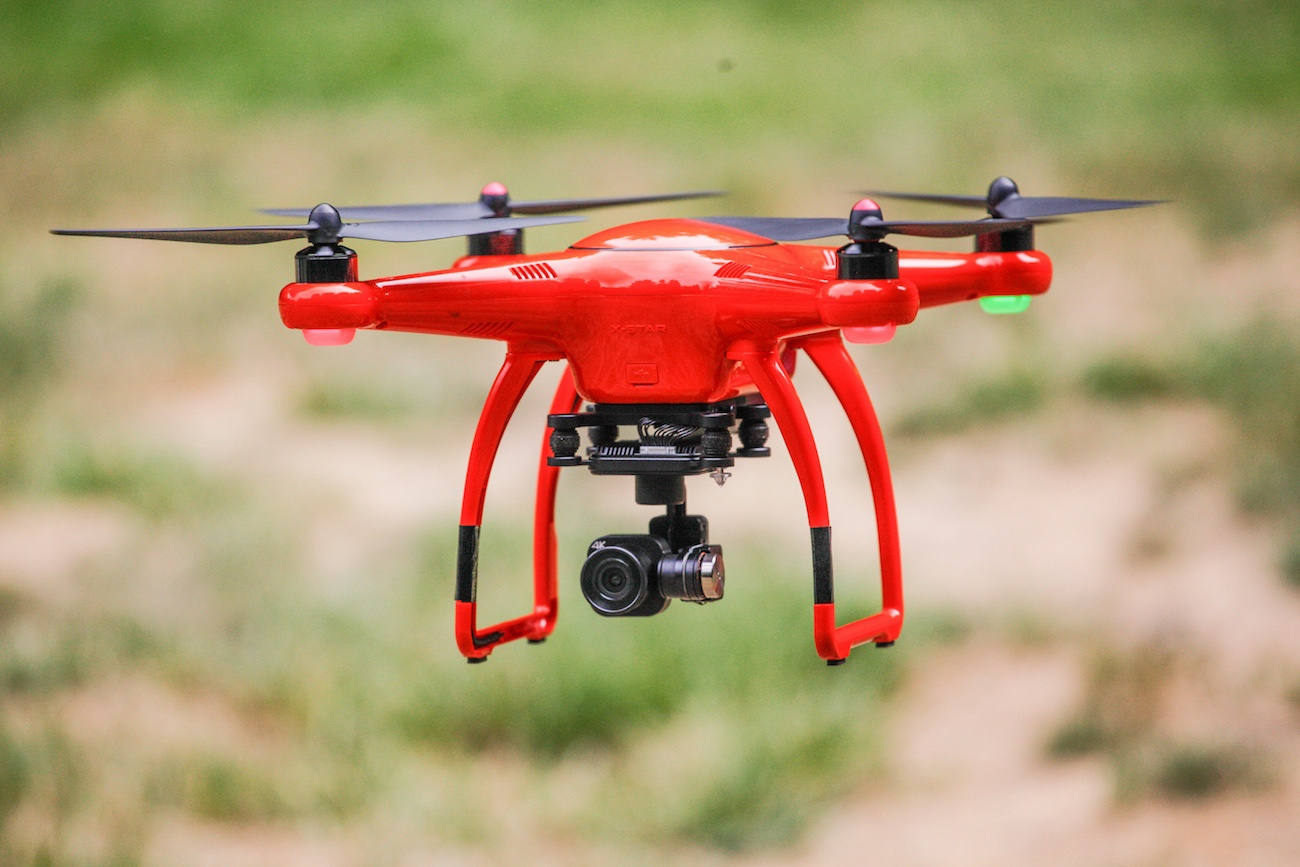drone: (47, 167, 1181, 674)
